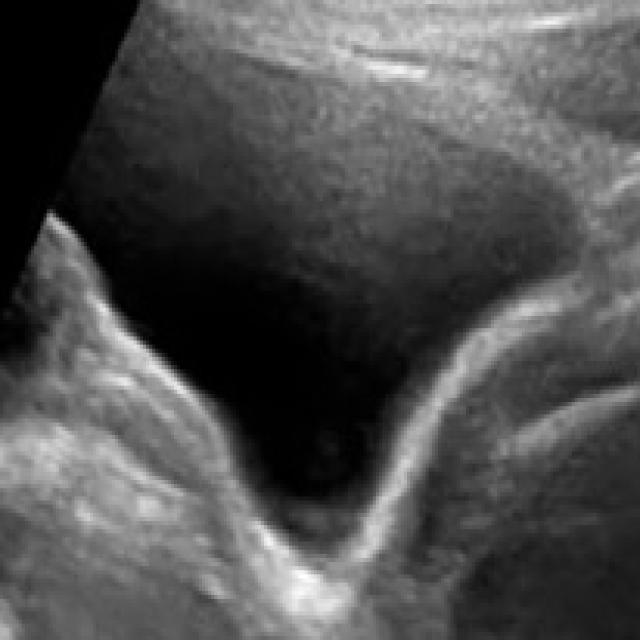bladder: (32, 7, 606, 603)
